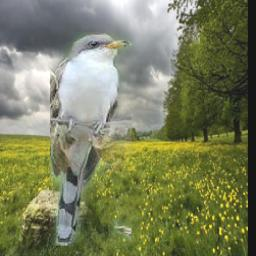Cuckoo: (50, 33, 132, 247)
